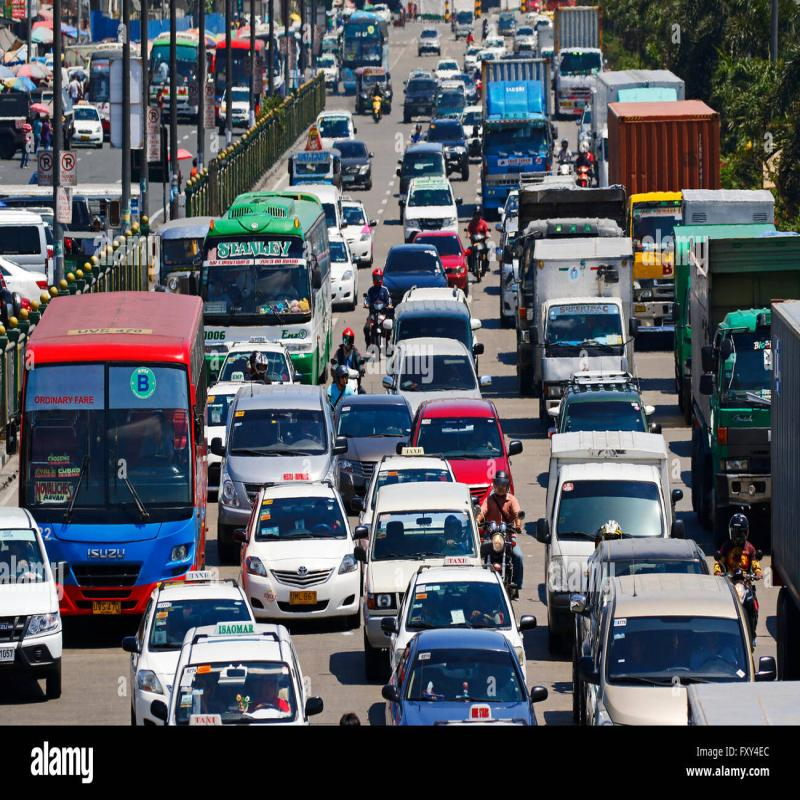car: (596, 575, 751, 767), (552, 459, 692, 663), (380, 630, 543, 780), (230, 364, 338, 550), (246, 476, 362, 646), (134, 581, 260, 735), (529, 288, 637, 420), (378, 479, 473, 625)
